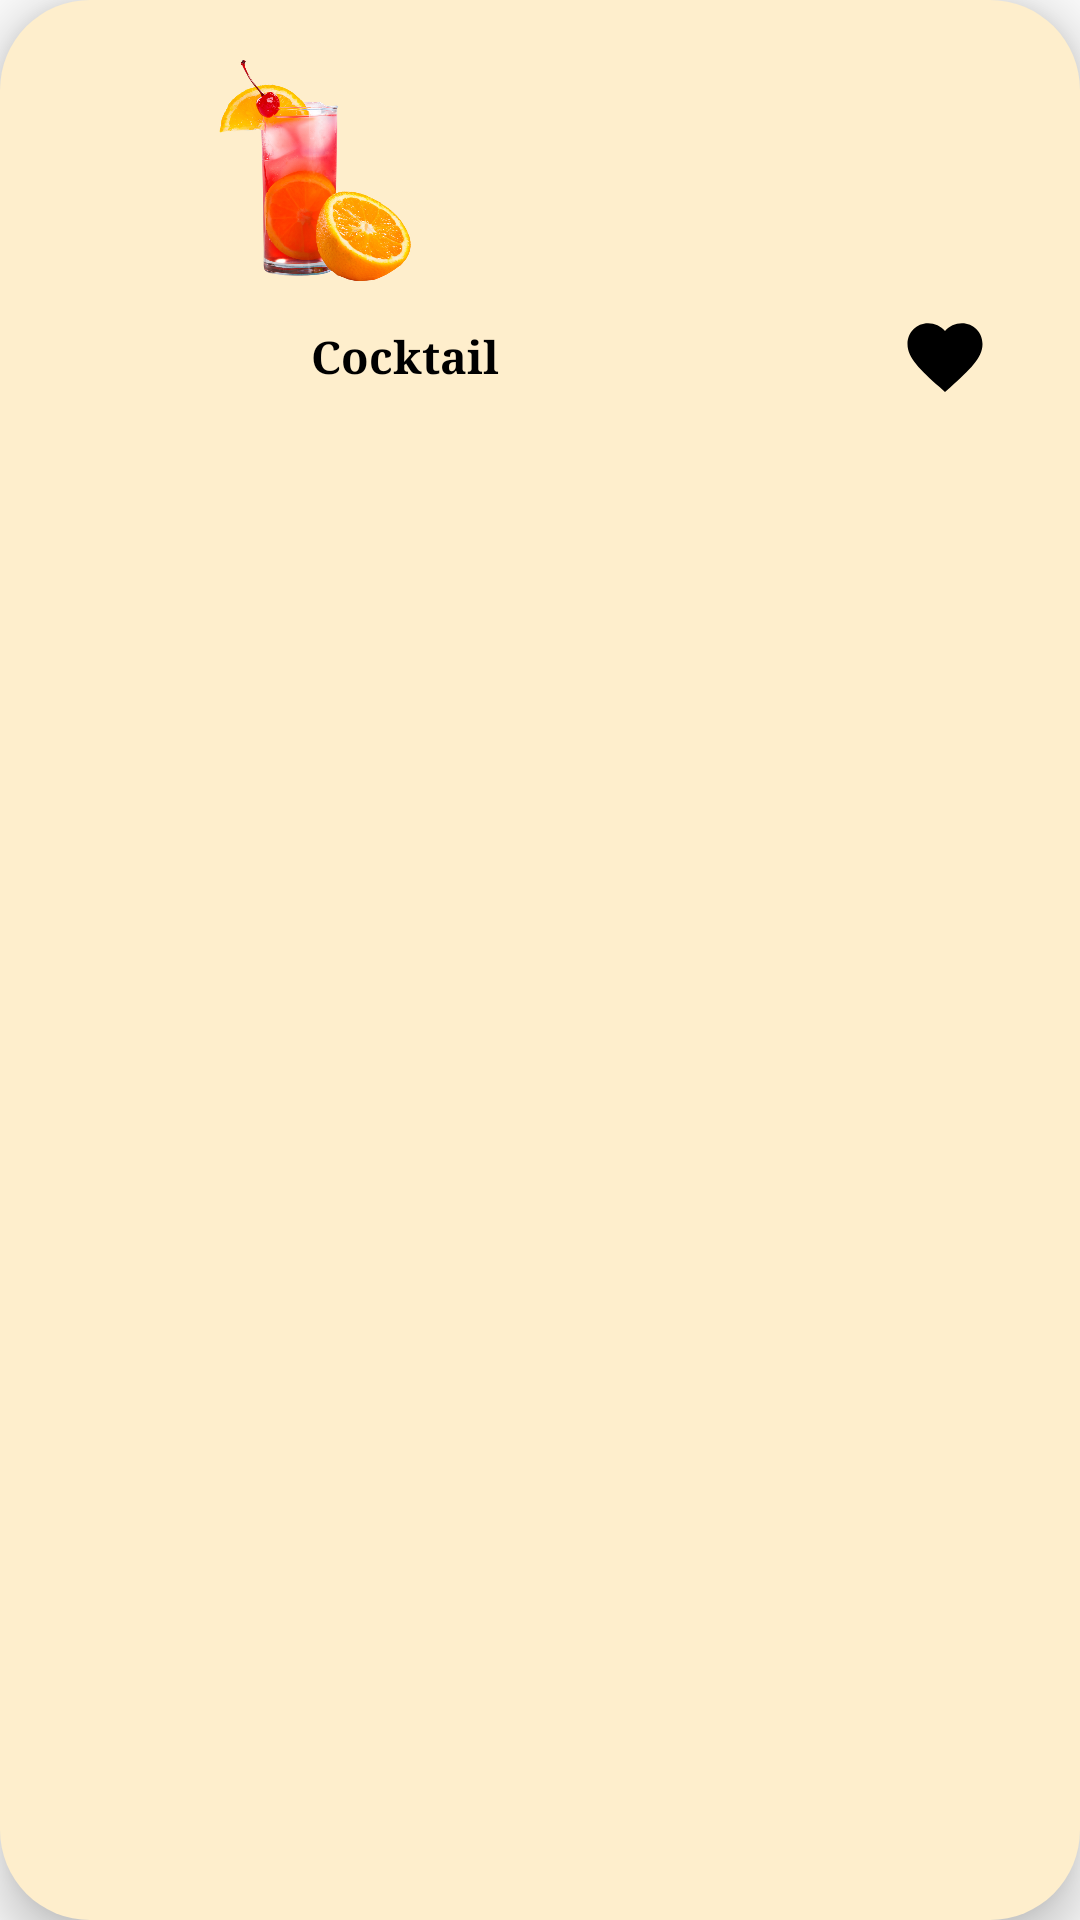

Named icons in this screenshot (1080 x 1920) and their centers, (x=x, y=y):
favorite: (x=945, y=357)
juice: (x=315, y=170)
